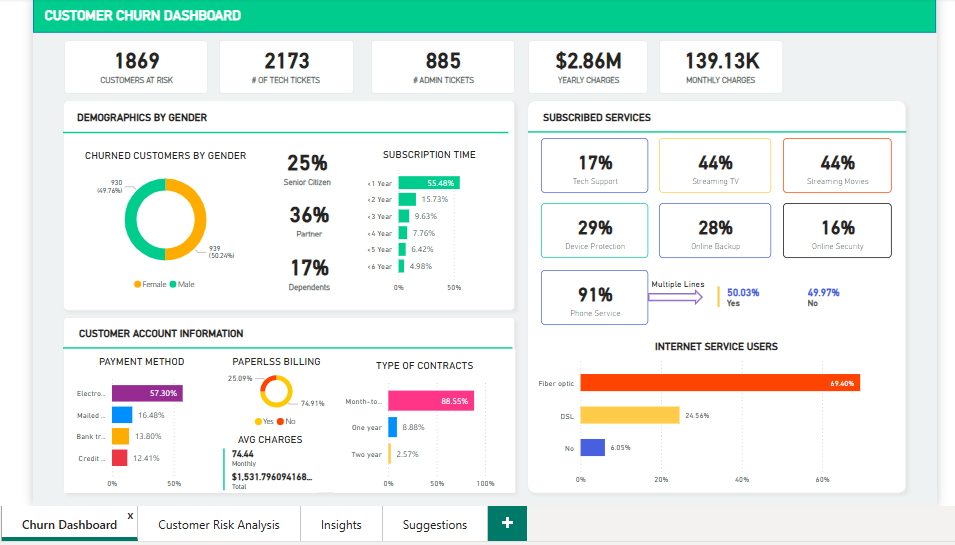

What the dashboard file says about the page in this screenshot:
{"tool":"powerbi","page":{"name":"Churn Dashboard","canvas":[1280,720],"ordinal":0},"visuals":[{"type":"shape","box":[0,0,1280,49],"z":0},{"type":"shape","box":[34,136,658,316],"z":0,"group":"g1"},{"type":"card","fields":{"Values":["Churn.% Tech Support"]},"box":[720,199,152.4,78.4],"z":0,"group":"g4"},{"type":"shape","box":[692,136,555,575],"z":1000},{"type":"card","fields":{"Values":["Churn.% Streaming TV"]},"box":[887.4,199,159.5,78.4],"z":1000,"group":"g4"},{"type":"donutChart","title":"CHURNED CUSTOMERS BY GENDER","fields":{"Category":["01 Churn-Dataset.gender"],"Y":["CountNonNull(01 Churn-Dataset.gender)"]},"box":[61.1,204.4,252.2,223.4],"z":1000,"group":"g1"},{"type":"shape","box":[702,123,536,133],"z":1500,"group":"g3"},{"type":"shape","box":[42,430,636.8,133],"z":1500,"group":"g2"},{"type":"textbox","box":[12,8,438,33],"z":2000},{"type":"textbox","box":[703.8,145,522.6,38],"z":2000,"group":"g3"},{"type":"textbox","box":[42.7,146.1,630.9,47.3],"z":2000,"group":"g1"},{"type":"card","fields":{"Values":["Churn.% Streaming Movies"]},"box":[1062.8,199,154.2,78.4],"z":2000,"group":"g4"},{"type":"textbox","box":[44.2,452,636.8,38],"z":2000,"group":"g2"},{"type":"card","fields":{"Values":["Churn.% of Senior Citizen"]},"box":[330.5,204.4,118,77.5],"z":3000,"group":"g1"},{"type":"card","fields":{"Values":["Churn.% Device Protection"]},"box":[720,291.6,152.4,78.4],"z":3000,"group":"g4"},{"type":"shape","box":[34,444,658,267],"z":3000},{"type":"card","fields":{"Values":["CountNonNull(01 Churn-Dataset.customerID)"]},"box":[44,60,204,76],"z":4000},{"type":"card","fields":{"Values":["Churn.% of partner"]},"box":[329.5,278.9,125.5,74.5],"z":4000,"group":"g1"},{"type":"card","fields":{"Values":["Churn.% Online Backup"]},"box":[887.4,291.6,159.5,78.4],"z":4000,"group":"g4"},{"type":"shape","box":[42.7,151.1,630.9,78.5],"z":5000,"group":"g1"},{"type":"card","fields":{"Values":["Churn.% Online Sec"]},"box":[1062.8,291.6,154.2,78.4],"z":5000,"group":"g4"},{"type":"card","fields":{"Values":["Churn.% Phone Service"]},"box":[720,385,152,78],"z":5000},{"type":"card","fields":{"Values":["Sum(01 Churn-Dataset.numTechTickets)"]},"box":[264,60,191,76],"z":6000},{"type":"card","fields":{"Values":["Churn.% of Dependents"]},"box":[329.5,351.4,125.5,79.5],"z":6000,"group":"g1"},{"type":"clusteredBarChart","title":"SUBSCRIPTION TIME","fields":{"Y":["CountNonNull(Churn.Churn)"],"Category":["Churn.Tenure(in years)"]},"box":[466.9,204.4,190.5,220.4],"z":7000,"group":"g1"},{"type":"clusteredBarChart","title":"PAYMENT METHOD","fields":{"Y":["CountNonNull(Churn.PaymentMethod)"],"Category":["Churn.PaymentMethod"]},"box":[44,497,220,204],"z":7000},{"type":"card","fields":{"Values":["Sum(01 Churn-Dataset.TotalCharges)"]},"box":[702,60,170,76],"z":8000},{"type":"card","fields":{"Values":["Sum(01 Churn-Dataset.numAdminTickets)"]},"box":[479,60,204,76],"z":9000},{"type":"group","id":"g1","title":"Group 1","box":[34,136,658,316],"z":10000},{"type":"card","fields":{"Values":["Sum(01 Churn-Dataset.MonthlyCharges)"]},"box":[887,60,176,76],"z":11000},{"type":"donutChart","title":"PAPERLSS BILLING","fields":{"Category":["Churn.PaperlessBilling"],"Y":["CountNonNull(Churn.PaperlessBilling)"]},"box":[248,497,194,126],"z":12000},{"type":"multiRowCard","title":"AVG CHARGES","fields":{"Values":["Avg(Churn.MonthlyCharges)","Avg(Churn.TotalCharges)"]},"box":[264,606,143,95],"z":13000},{"type":"clusteredBarChart","title":"TYPE OF CONTRACTS","fields":{"Category":["Churn.Contract"],"Y":["CountNonNull(Churn.Contract)"]},"box":[426,497,257,204],"z":14000},{"type":"group","id":"g2","title":"Group 2","box":[42,430,639,133],"z":15000},{"type":"group","id":"g3","title":"Group 2","box":[702,123,536,133],"z":16000},{"type":"group","id":"g4","title":"Group 3","box":[720,199,497,171],"z":17000},{"type":"shape","box":[871,412,78,23],"z":18000},{"type":"textbox","box":[872,391,300,30],"z":19000},{"type":"multiRowCard","fields":{"Values":["Churn.% Yes-Multiple Lines","Churn.% No-Multiple Lines"]},"box":[965,404,252,53],"z":20000},{"type":"barChart","title":"INTERNET SERVICE USERS","fields":{"Y":["CountNonNull(Churn.InternetService)"],"Category":["Churn.InternetService"]},"box":[710,471,517,230],"z":21000}]}

Visuals, with their boxes on the page's 1280x720 design canvas (x1, y1, x2, y2). These are canvas units, not pixel positions in the 955x545 screenshot, which may show the page scaled, cropped or inside an application window:
shape: detection(0, 0, 1280, 49)
shape: detection(34, 136, 692, 452)
card - Churn.% Tech Support: detection(720, 199, 872, 277)
shape: detection(692, 136, 1247, 711)
card - Churn.% Streaming TV: detection(887, 199, 1047, 277)
"CHURNED CUSTOMERS BY GENDER" donutChart: detection(61, 204, 313, 428)
shape: detection(702, 123, 1238, 256)
shape: detection(42, 430, 679, 563)
textbox: detection(12, 8, 450, 41)
textbox: detection(704, 145, 1226, 183)
textbox: detection(43, 146, 674, 193)
card - Churn.% Streaming Movies: detection(1063, 199, 1217, 277)
textbox: detection(44, 452, 681, 490)
card - Churn.% of Senior Citizen: detection(330, 204, 448, 282)
card - Churn.% Device Protection: detection(720, 292, 872, 370)
shape: detection(34, 444, 692, 711)
card - CountNonNull(01 Churn-Dataset.customerID): detection(44, 60, 248, 136)
card - Churn.% of partner: detection(330, 279, 455, 353)
card - Churn.% Online Backup: detection(887, 292, 1047, 370)
shape: detection(43, 151, 674, 230)
card - Churn.% Online Sec: detection(1063, 292, 1217, 370)
card - Churn.% Phone Service: detection(720, 385, 872, 463)
card - Sum(01 Churn-Dataset.numTechTickets): detection(264, 60, 455, 136)
card - Churn.% of Dependents: detection(330, 351, 455, 431)
"SUBSCRIPTION TIME" clusteredBarChart: detection(467, 204, 657, 425)
"PAYMENT METHOD" clusteredBarChart: detection(44, 497, 264, 701)
card - Sum(01 Churn-Dataset.TotalCharges): detection(702, 60, 872, 136)
card - Sum(01 Churn-Dataset.numAdminTickets): detection(479, 60, 683, 136)
"Group 1" group: detection(34, 136, 692, 452)
card - Sum(01 Churn-Dataset.MonthlyCharges): detection(887, 60, 1063, 136)
"PAPERLSS BILLING" donutChart: detection(248, 497, 442, 623)
"AVG CHARGES" multiRowCard: detection(264, 606, 407, 701)
"TYPE OF CONTRACTS" clusteredBarChart: detection(426, 497, 683, 701)
"Group 2" group: detection(42, 430, 681, 563)
"Group 2" group: detection(702, 123, 1238, 256)
"Group 3" group: detection(720, 199, 1217, 370)
shape: detection(871, 412, 949, 435)
textbox: detection(872, 391, 1172, 421)
multiRowCard - Churn.% Yes-Multiple Lines x Churn.% No-Multiple Lines: detection(965, 404, 1217, 457)
"INTERNET SERVICE USERS" barChart: detection(710, 471, 1227, 701)
